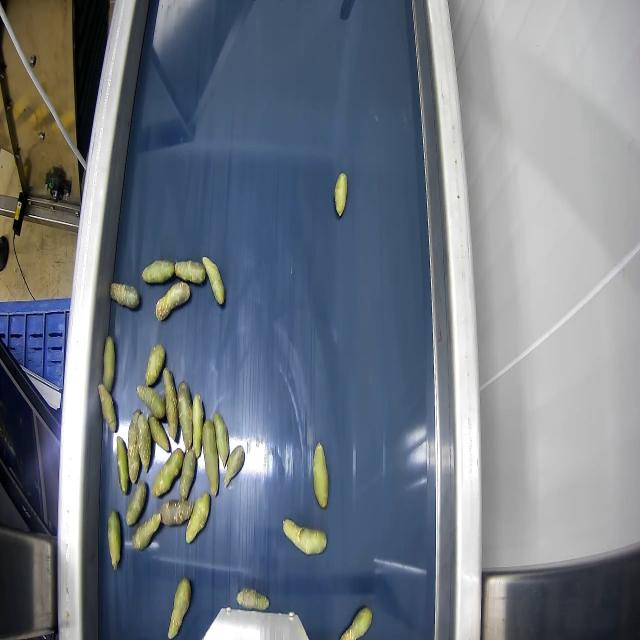Baby Potato: (282, 518, 328, 556), (168, 576, 192, 639), (153, 448, 184, 496), (155, 281, 191, 321), (185, 488, 210, 543), (202, 421, 218, 497), (202, 256, 226, 305), (163, 367, 179, 440), (177, 382, 193, 452), (341, 605, 373, 640), (136, 383, 166, 420), (312, 441, 328, 509), (98, 382, 118, 434), (125, 479, 147, 526), (131, 514, 159, 550), (135, 411, 151, 474), (223, 444, 244, 490), (159, 498, 193, 526), (213, 411, 229, 468), (127, 412, 140, 482), (144, 343, 166, 384), (107, 508, 121, 572), (236, 586, 270, 612), (179, 445, 195, 499), (142, 258, 174, 284), (115, 436, 129, 495), (102, 334, 116, 392), (110, 283, 140, 309), (174, 260, 206, 284), (192, 394, 204, 458), (148, 416, 170, 449), (334, 172, 348, 218)
